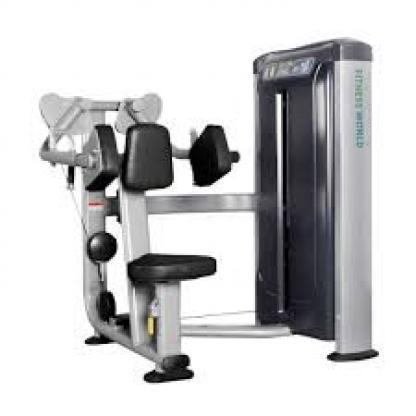lateral raises machine: (37, 39, 382, 384)
